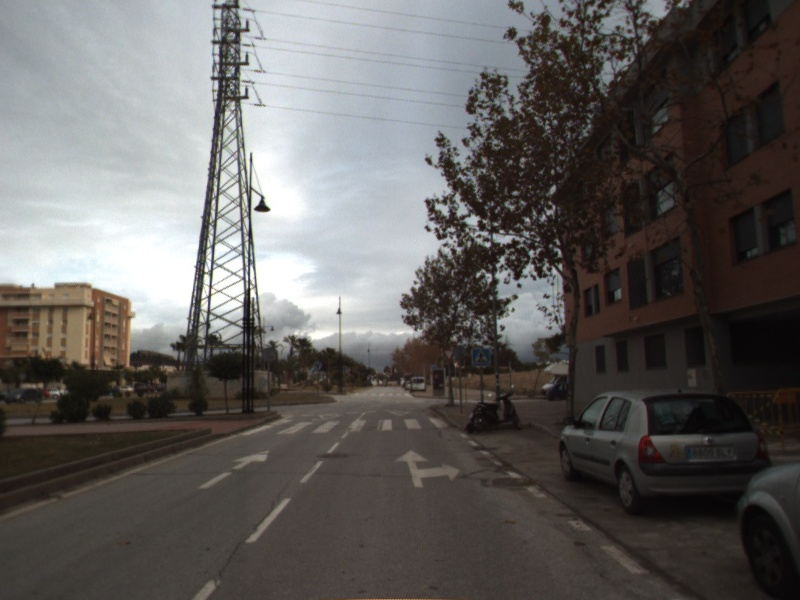STRAIGHT: (196, 448, 271, 491)
STRAIGHT_RIGHT: (393, 448, 461, 489)
